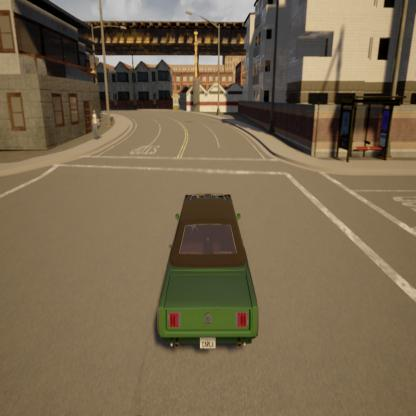Cars: (145, 171, 265, 364)
Pedestrian: (86, 90, 100, 155)
